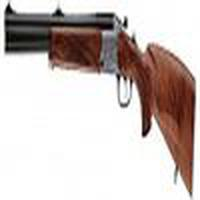gun: (5, 7, 194, 159)
